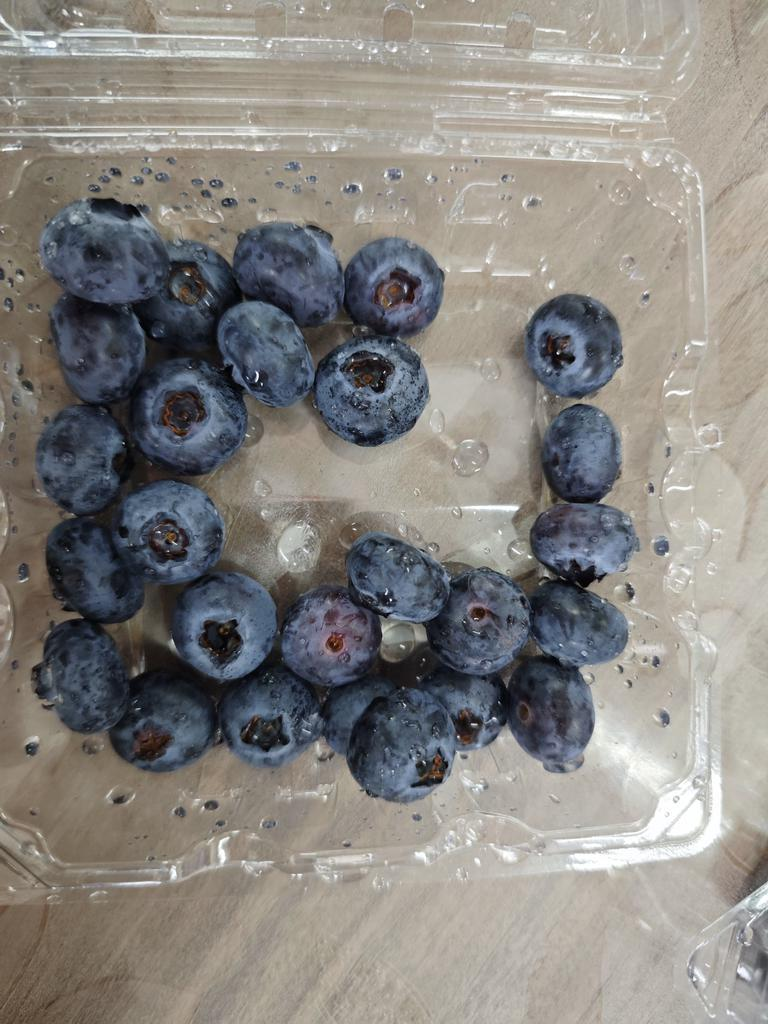RipeBlueBerry: (42, 192, 165, 310), (133, 354, 248, 479), (313, 333, 432, 449), (347, 683, 460, 802), (165, 571, 279, 686), (113, 478, 228, 588), (233, 215, 346, 325), (213, 299, 320, 412), (33, 400, 132, 520), (33, 617, 130, 739), (431, 561, 536, 673), (109, 669, 218, 774), (44, 299, 149, 404), (39, 517, 145, 621), (523, 290, 625, 398), (340, 532, 452, 628), (217, 667, 322, 766), (507, 654, 597, 768), (283, 582, 383, 683), (347, 235, 447, 331), (528, 503, 640, 584), (530, 576, 631, 664), (540, 402, 626, 503)
